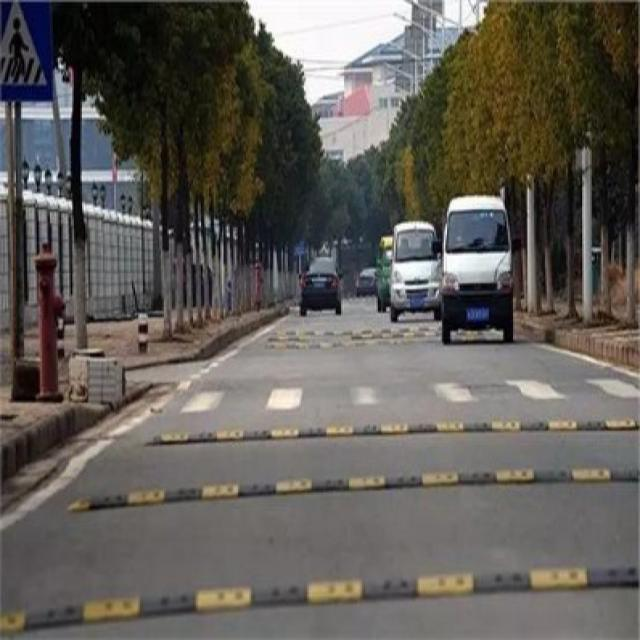Speed Bump: (3, 559, 634, 624), (64, 462, 630, 514), (140, 411, 629, 447)
